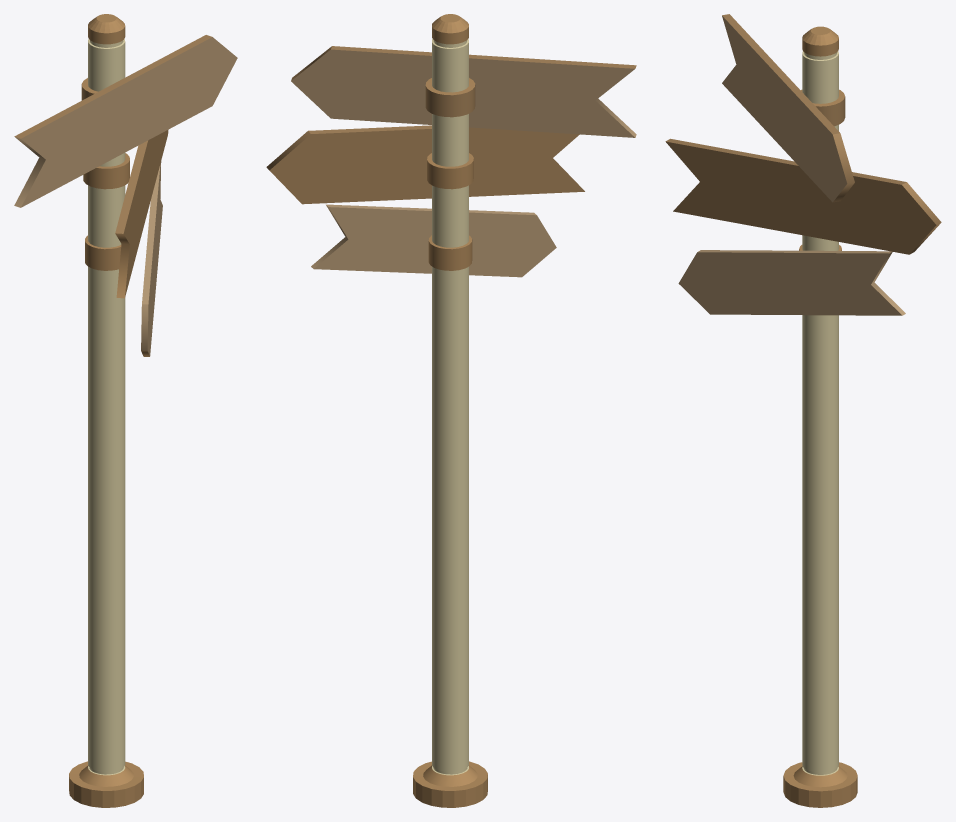
Rendered from sign.fbx.
3 renders of one model, left to right at view 1: azimuth 30°, elevation 25°; view 2: azimuth 150°, elevation 25°; view 3: azimuth 270°, elevation 25°, orthographic.
Parts seen in each view (by area): view 1: pCube183; view 2: pCube183; view 3: pCube183.
Part boxes in pixels (left/top/right/bottom): pCube183: left=14, top=14, right=237, bottom=807; pCube183: left=266, top=14, right=636, bottom=807; pCube183: left=665, top=14, right=941, bottom=807.
Size of the model in its own units: 2.64 by 6.88 by 2.26.
